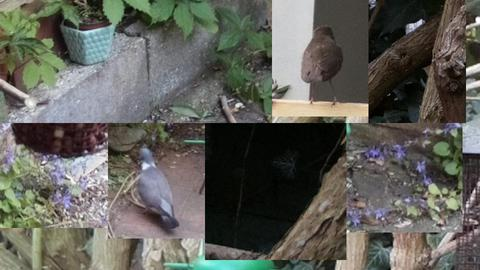robin: (300, 25, 344, 108)
wood pigeon: (136, 148, 180, 230)
